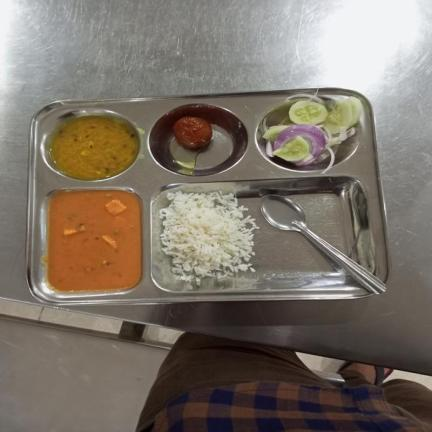Chana Dal: (52, 115, 137, 179)
Gulab Jamun: (172, 117, 213, 151)
Paneer: (49, 190, 141, 291)
Plate: (26, 86, 393, 305)
Rice: (160, 186, 257, 281)
Salad: (262, 91, 364, 175)
